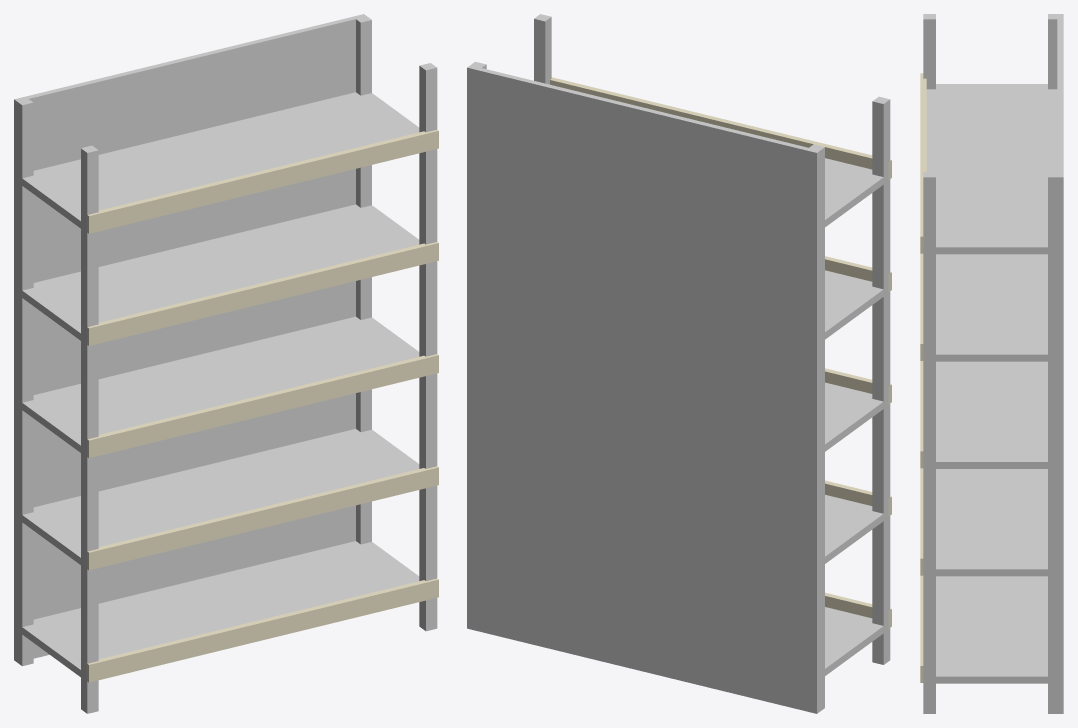
The model's file is shop_shelf.glb.
The picture shows the model from 3 angles, left to right: view 1: azimuth 30°, elevation 25°; view 2: azimuth 150°, elevation 25°; view 3: azimuth 270°, elevation 25°; orthographic projection. The views are drawn at different scales.
Parts seen in each view (by area): view 1: shop_shelf; view 2: shop_shelf; view 3: shop_shelf.
Boxes of the visible parts, x1,y1,x2,y2 form: shop_shelf: (14, 14, 438, 713); shop_shelf: (467, 14, 891, 713); shop_shelf: (920, 14, 1063, 713).
Bounding box in the file's own units: 1.24 × 1.9 × 0.46.
